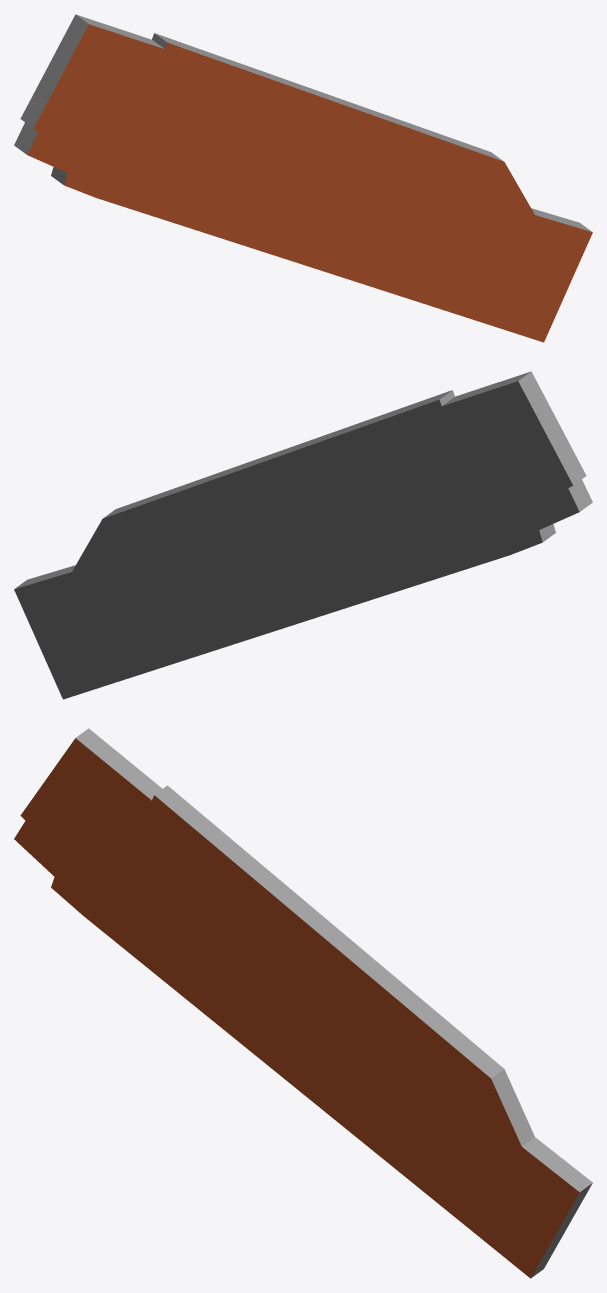
File: construction_0146_assumed_A_Grande_construcao_h6m.obj
3 views of the same model, one above another, from view 1: azimuth 30°, elevation 25°; view 2: azimuth 150°, elevation 25°; view 3: azimuth 330°, elevation 25° (orthographic).
Visible parts, largest first — view 1: construction_0146_assumed_A_Grande_construcao; view 2: construction_0146_assumed_A_Grande_construcao; view 3: construction_0146_assumed_A_Grande_construcao.
Boxes of the visible parts, x1=… form: construction_0146_assumed_A_Grande_construcao: x1=14, y1=14, x2=592, y2=342; construction_0146_assumed_A_Grande_construcao: x1=14, y1=371, x2=592, y2=699; construction_0146_assumed_A_Grande_construcao: x1=14, y1=728, x2=592, y2=1278.
Size of the model in its own units: 148 by 107 by 6.
